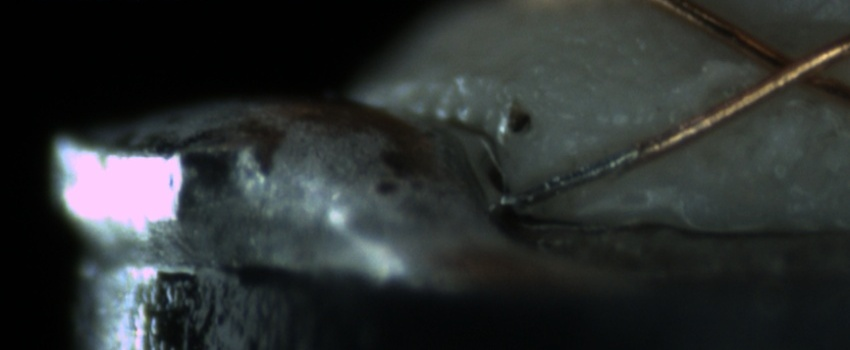CL: (739, 28, 841, 100)
DL: (554, 117, 666, 152)
TS: (500, 144, 644, 211)
